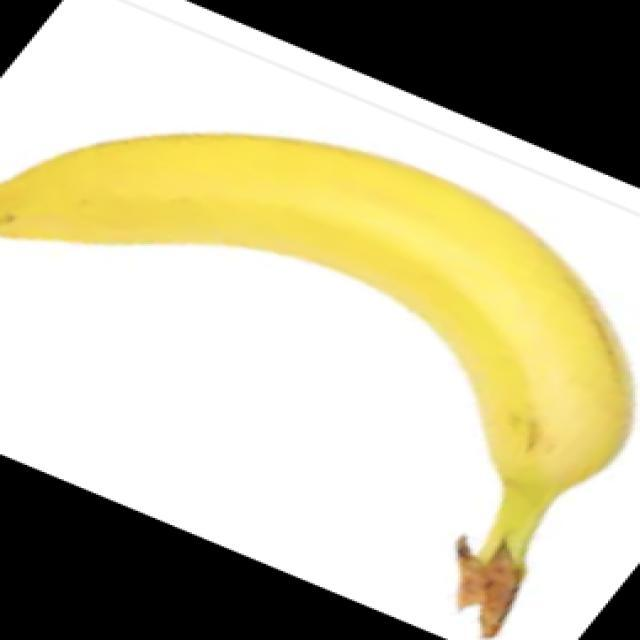Banana: (0, 130, 636, 638)
